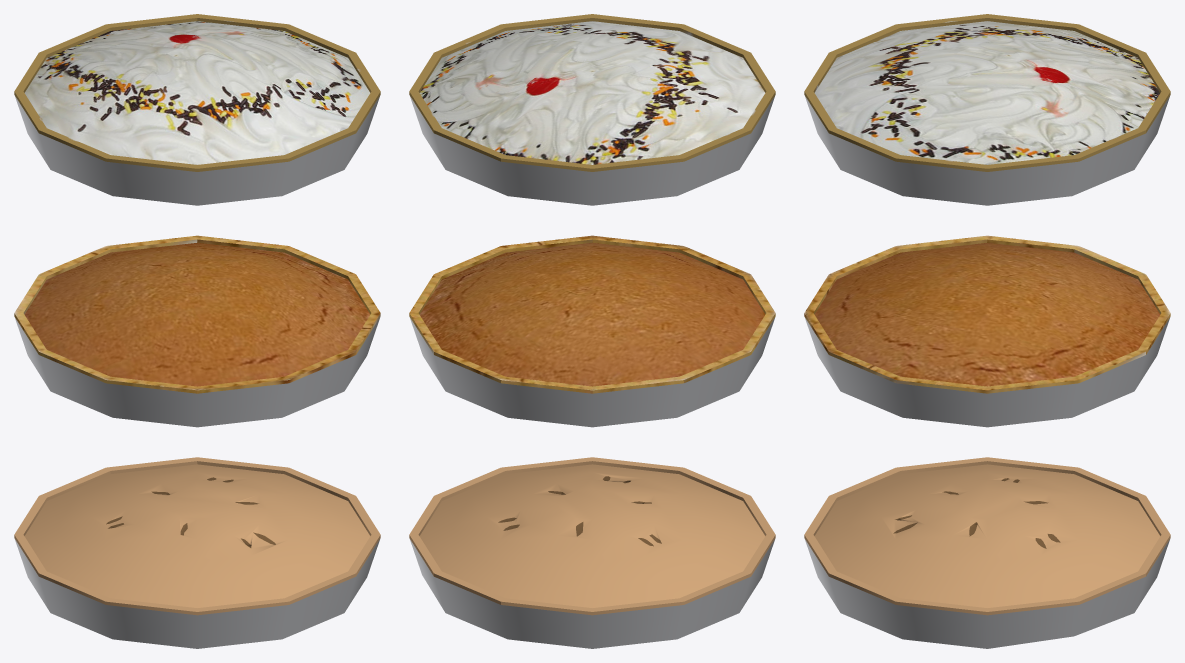
The model's file is pies.FBX.
3 views of the same model, side by side, from view 1: azimuth 30°, elevation 25°; view 2: azimuth 150°, elevation 25°; view 3: azimuth 270°, elevation 25° (orthographic).
Parts seen in each view (by area): view 1: Pie1, Pie2top01, Pie3top, Pie3bot, Pie2bot01; view 2: Pie1, Pie2top01, Pie3top, Pie3bot, Pie2bot01; view 3: Pie1, Pie2top01, Pie3top, Pie3bot, Pie2bot01.
Boxes of the visible parts, left/top/right/bottom form: Pie1: left=14, top=457, right=380, bottom=648; Pie2top01: left=14, top=235, right=380, bottom=393; Pie3top: left=14, top=14, right=380, bottom=171; Pie3bot: left=14, top=95, right=380, bottom=205; Pie2bot01: left=14, top=317, right=380, bottom=427; Pie1: left=409, top=457, right=775, bottom=648; Pie2top01: left=409, top=235, right=775, bottom=393; Pie3top: left=409, top=14, right=775, bottom=171; Pie3bot: left=409, top=95, right=775, bottom=205; Pie2bot01: left=409, top=317, right=775, bottom=427; Pie1: left=804, top=457, right=1170, bottom=648; Pie2top01: left=804, top=235, right=1170, bottom=393; Pie3top: left=804, top=14, right=1170, bottom=171; Pie3bot: left=804, top=95, right=1170, bottom=205; Pie2bot01: left=804, top=317, right=1170, bottom=427.
Bounding box in the file's own units: 14.98 × 14.98 × 23.3.
5 materials, 2 textured.
